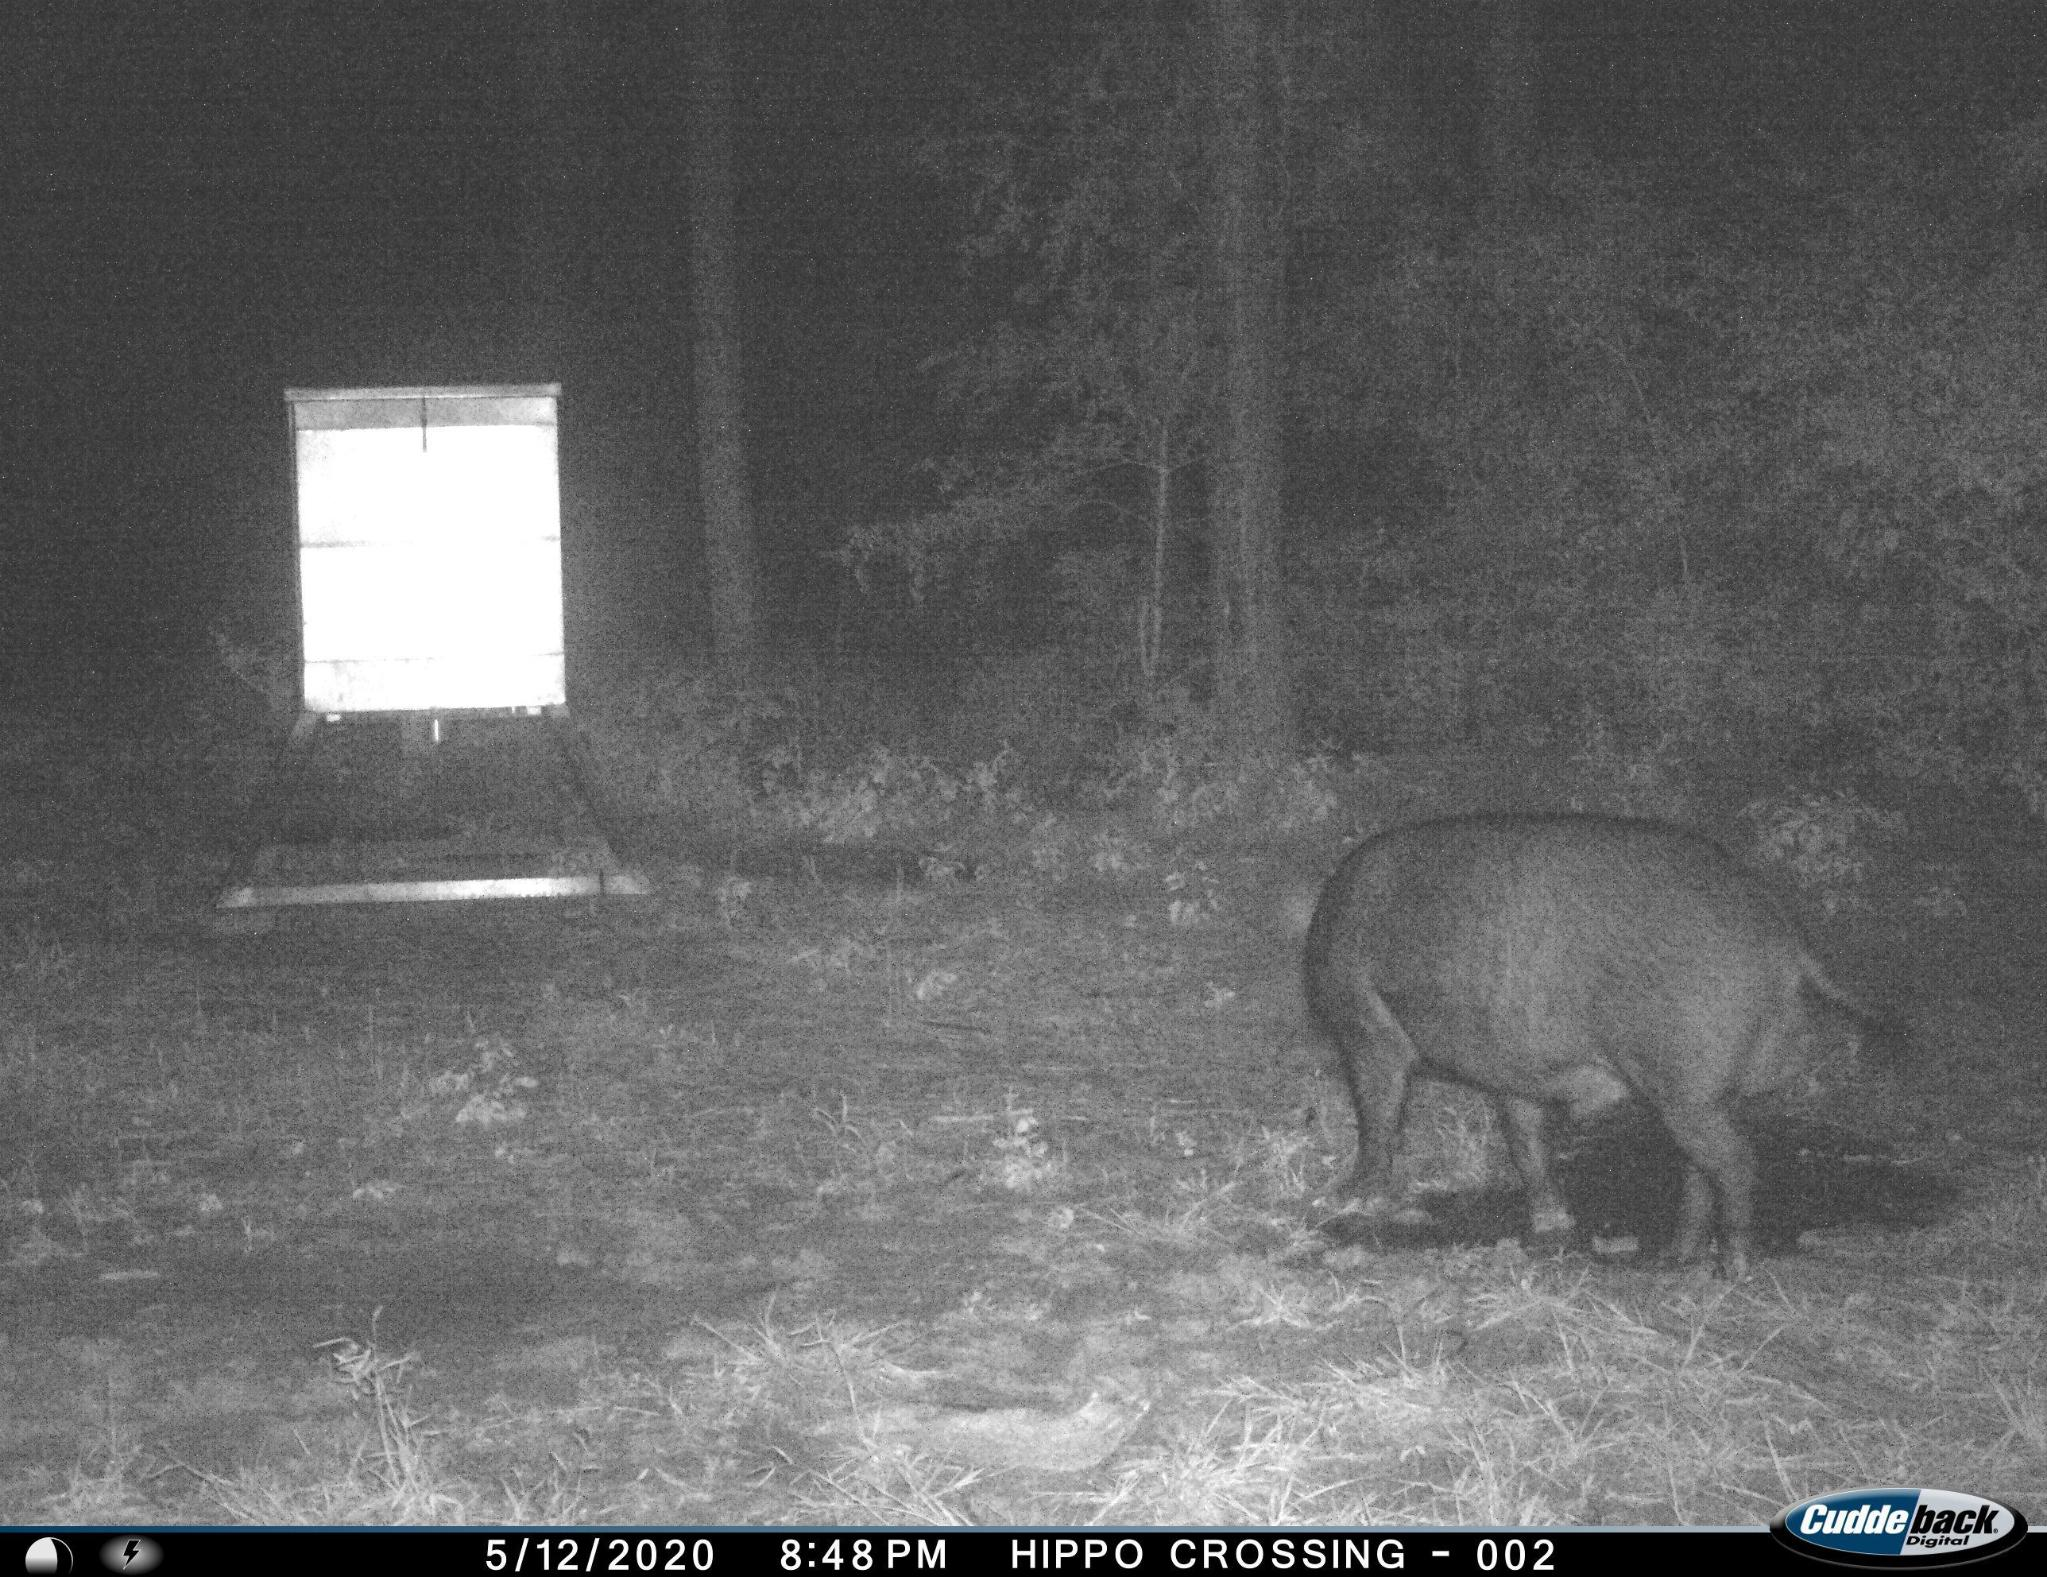Hog: (1293, 802, 1885, 1289)
